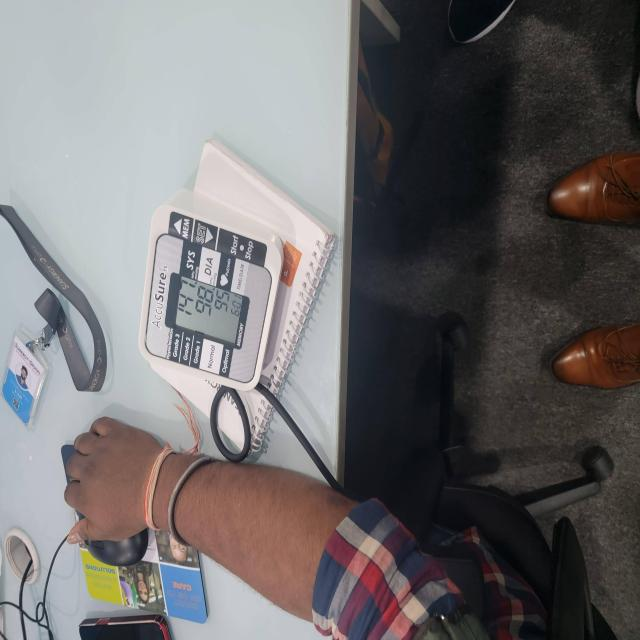bp: (139, 191, 299, 413)
